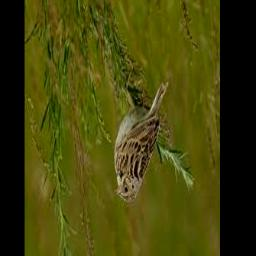Sparrow: (114, 80, 170, 202)
